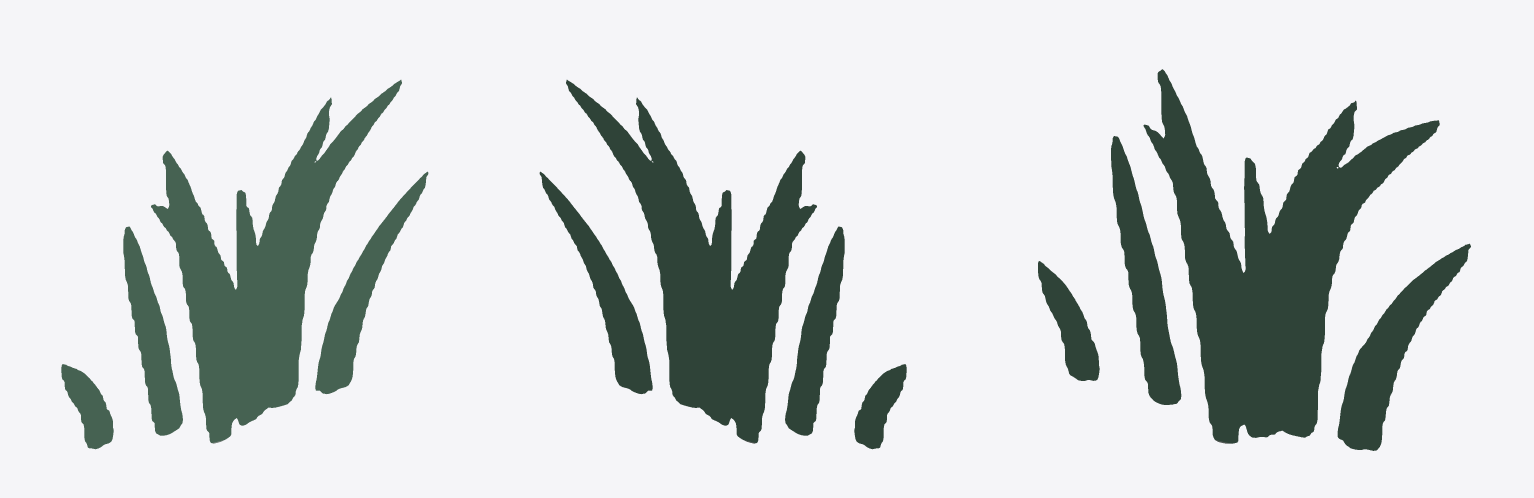
The model's file is SM_Grass_06.fbx.
3 views of the same model, side by side, from view 1: azimuth 30°, elevation 25°; view 2: azimuth 150°, elevation 25°; view 3: azimuth 330°, elevation 25° (orthographic). The views are drawn at different scales.
Visible parts, largest first — view 1: SM_Grass_06; view 2: SM_Grass_06; view 3: SM_Grass_06.
Part boxes in pixels (x1,y1,x2,y2): SM_Grass_06: (61,80,428,449); SM_Grass_06: (539,80,906,449); SM_Grass_06: (1038,69,1470,450).
Bounding box in the file's own units: 82.3 × 69.27 × 0.
Materials: 1 (1 with a texture image).
